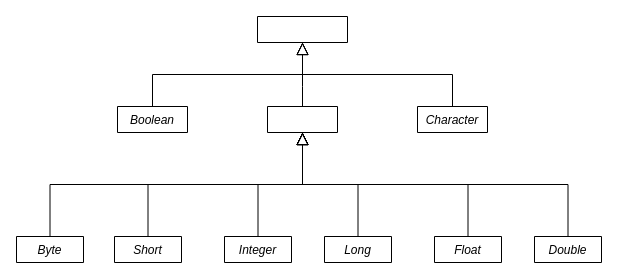
Image size: 618x279. Some labels were removed from this diagram. Each missing label, with the box of its shape:
Number: (266, 106, 338, 132)
Object: (256, 16, 348, 42)
